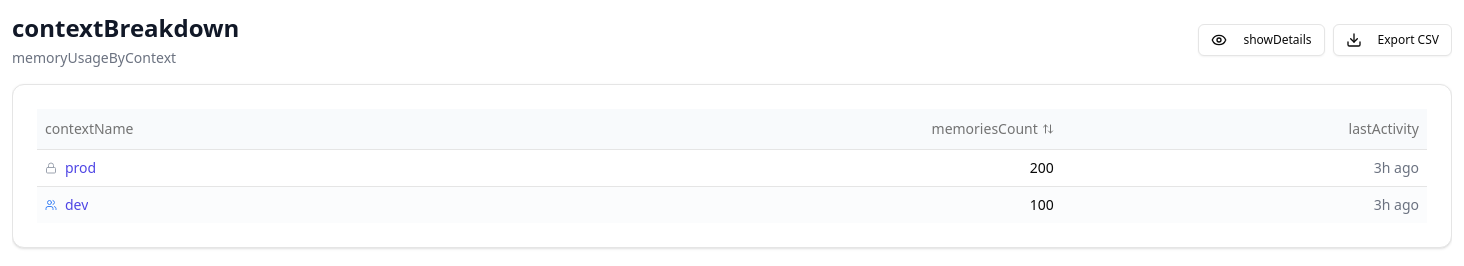
Scenario: ContextBreakdownTable › toggles back to 3 columns when Hide Details is clicked
This screenshot has width=1464, height=266.
Click the button "showDetails". click: (1262, 40)
box: left=1198, top=24, right=1325, bottom=56
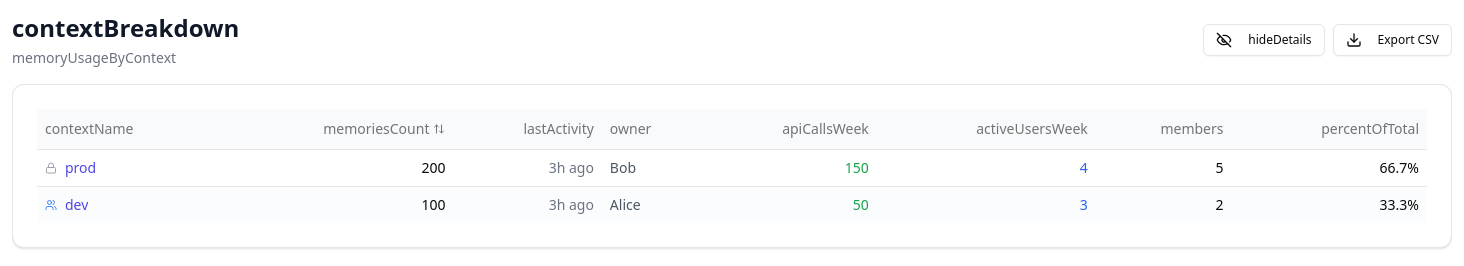
Now the column heading "owner" is shown, box left=602, top=109, right=701, bottom=149
Click the button "hideDetails". click: (1264, 40)
box: left=1203, top=24, right=1324, bottom=56
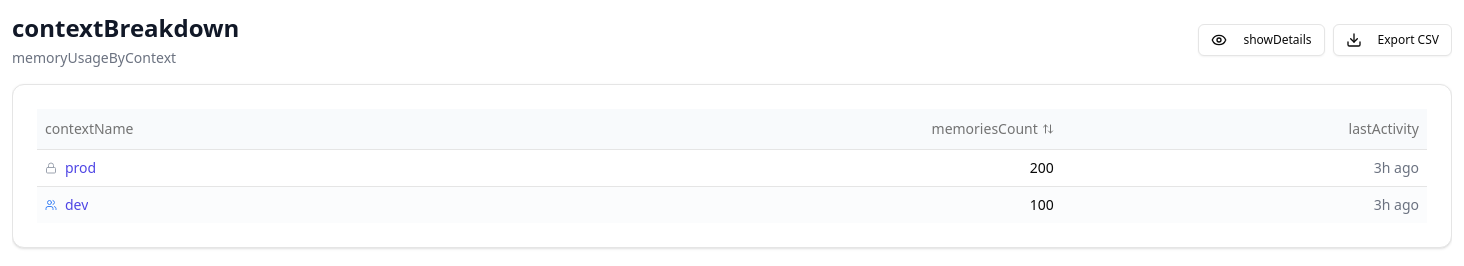
Now the column heading "owner" is gone
